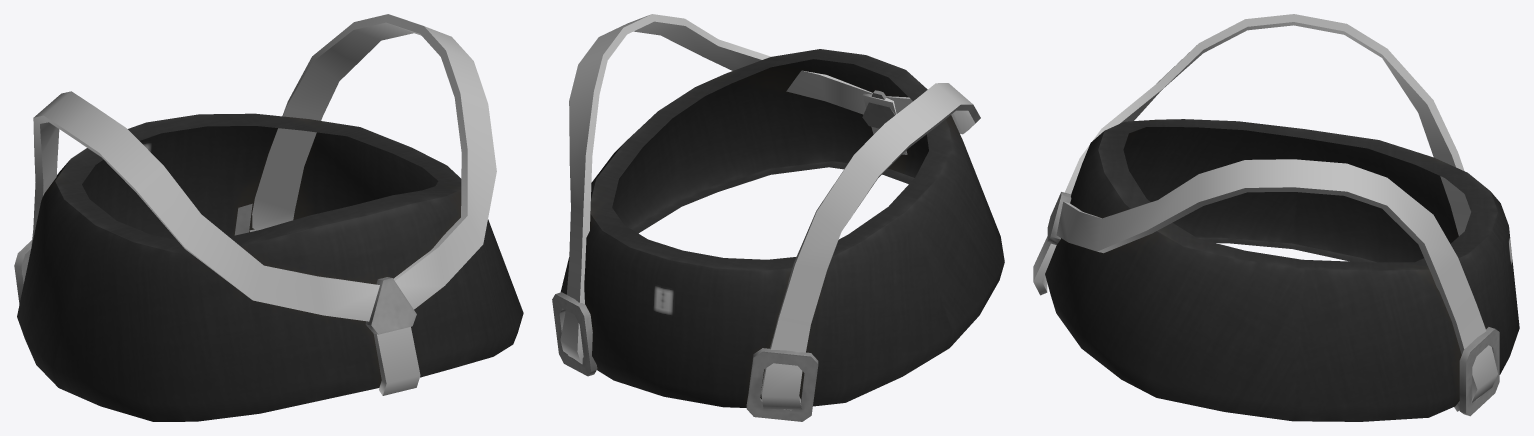
Rendered from IG_Armor_Cai.fbx.
3 views of the same model, side by side, from view 1: azimuth 30°, elevation 25°; view 2: azimuth 150°, elevation 25°; view 3: azimuth 270°, elevation 25° (orthographic). The views are drawn at different scales.
Parts seen in each view (by area): view 1: CaiShirt; view 2: CaiShirt; view 3: CaiShirt.
Boxes of the visible parts, <box> form: CaiShirt: <box>14,14,523,421</box>; CaiShirt: <box>552,14,1004,421</box>; CaiShirt: <box>1033,14,1519,421</box>.
Size of the model in its own units: 0.6098 by 0.4236 by 0.6901.
